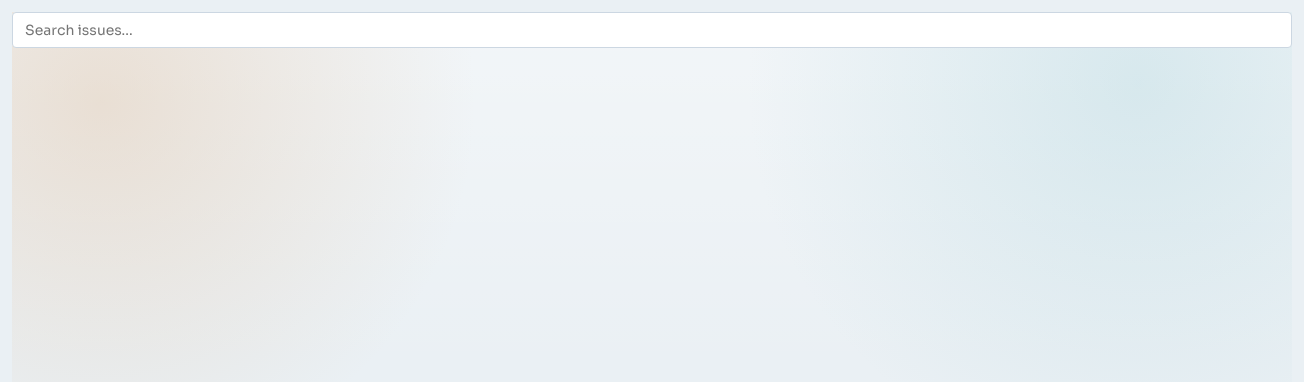
Test: cancels debounce on unmount and reports empty results
Later steps or results of the test are not shown.
Type "none" into the field. click: [652, 30]
box: [12, 12, 1292, 48]
Wait 300 ms
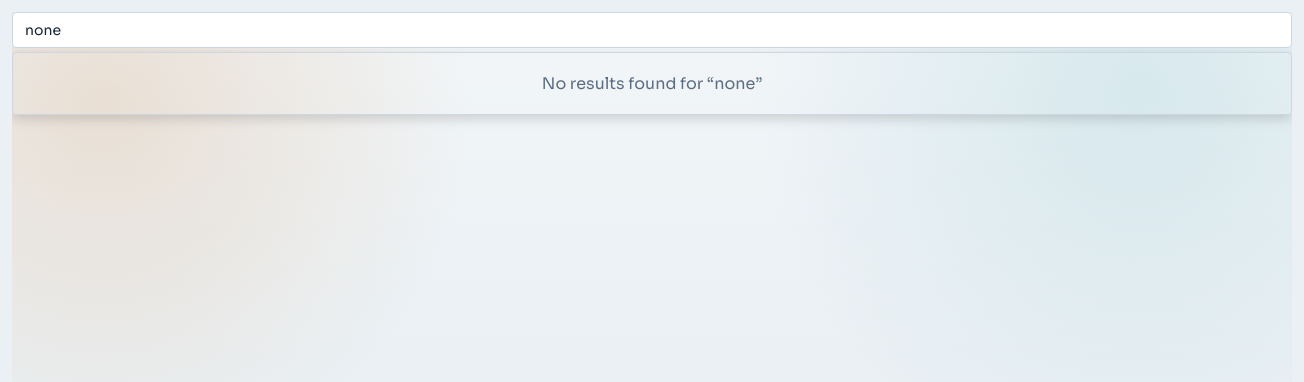
Expected: the text "No results found for “none”" is shown, [542, 73, 762, 94]
